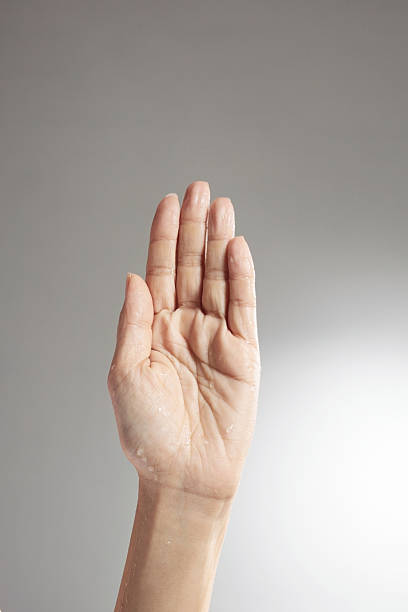hand: (86, 161, 294, 530)
